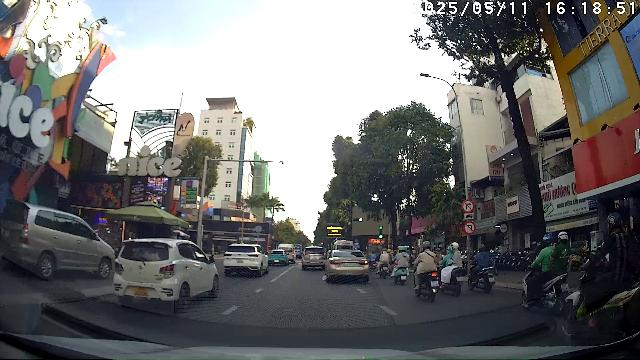123a-cam-re-trai: (463, 221, 476, 235)
123b-cam-re-phai: (461, 199, 475, 213)
